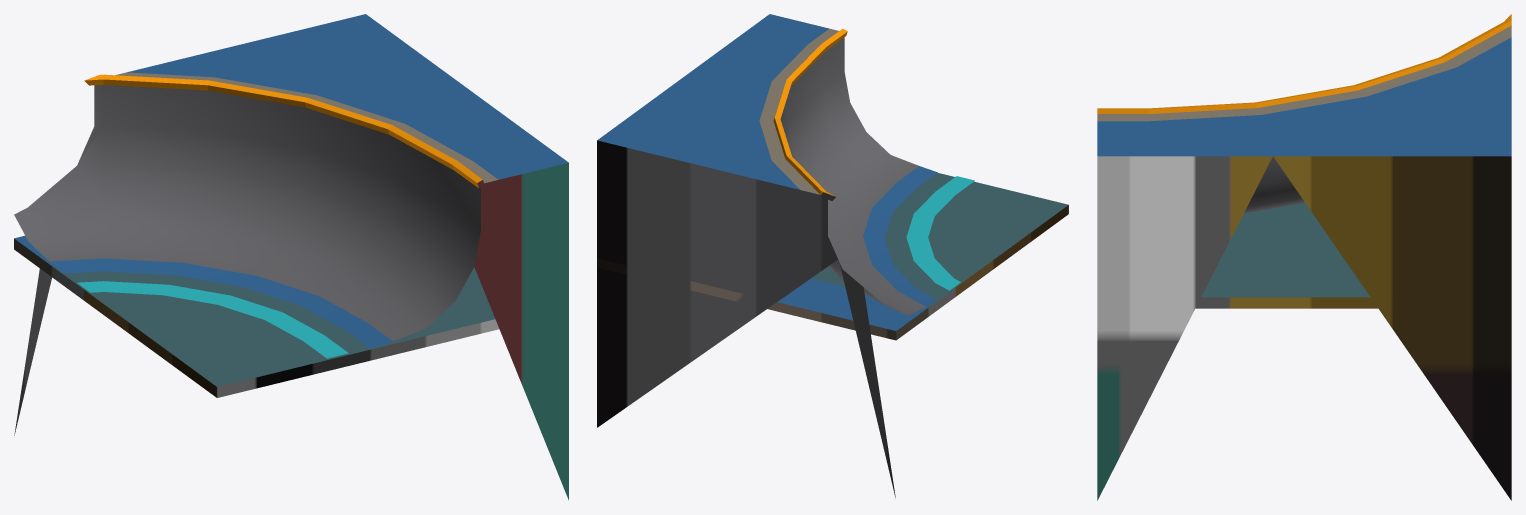
File: tile_8_0_10.gltf
3 views of the same model, side by side, from view 1: azimuth 30°, elevation 25°; view 2: azimuth 150°, elevation 25°; view 3: azimuth 270°, elevation 25° (orthographic). The views are drawn at different scales.
Visible parts, largest first — view 1: pipe.main, ground, pipe.main.rim, decal.main; view 2: pipe.main, ground, decal.main, pipe.main.rim; view 3: pipe.main, ground, pipe.main.rim.
Boxes of the visible parts, bbox=[...] form: pipe.main: bbox=[14, 14, 568, 500]; ground: bbox=[14, 235, 499, 397]; pipe.main.rim: bbox=[84, 74, 484, 188]; decal.main: bbox=[77, 281, 348, 358]; pipe.main: bbox=[597, 14, 937, 497]; ground: bbox=[597, 173, 1068, 340]; decal.main: bbox=[906, 176, 974, 290]; pipe.main.rim: bbox=[773, 29, 847, 200]; pipe.main: bbox=[1097, 25, 1511, 500]; ground: bbox=[1097, 202, 1401, 308]; pipe.main.rim: bbox=[1097, 14, 1511, 113].
Size of what is drawn, in the model's own units: 8 by 7.44 by 8.
2 materials, 2 textured.
